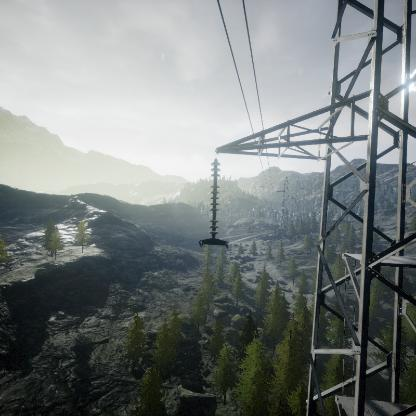insulator: (208, 158, 221, 238)
